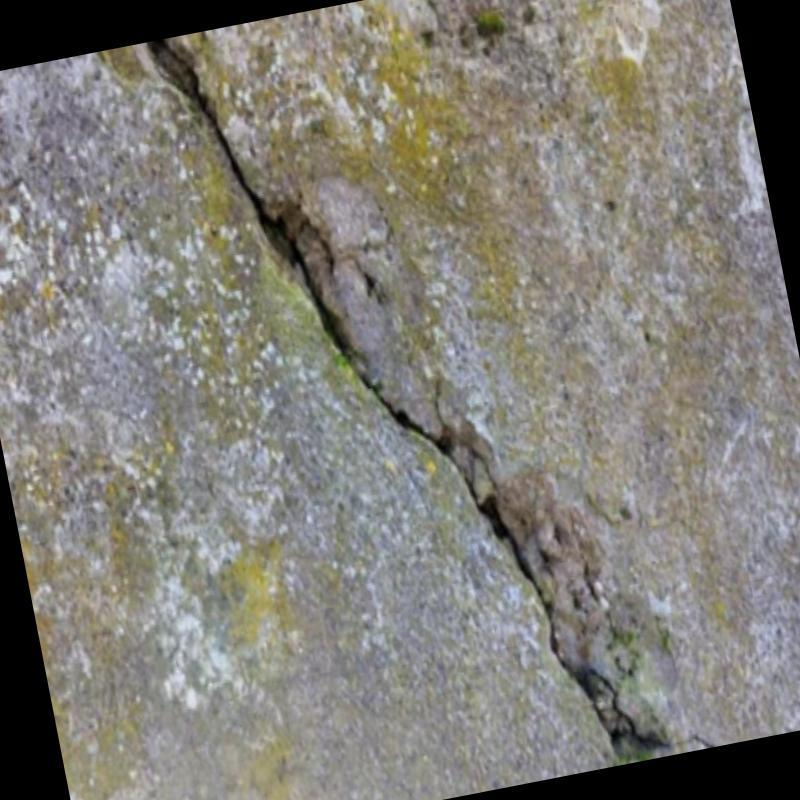pothole: (147, 38, 668, 748)
